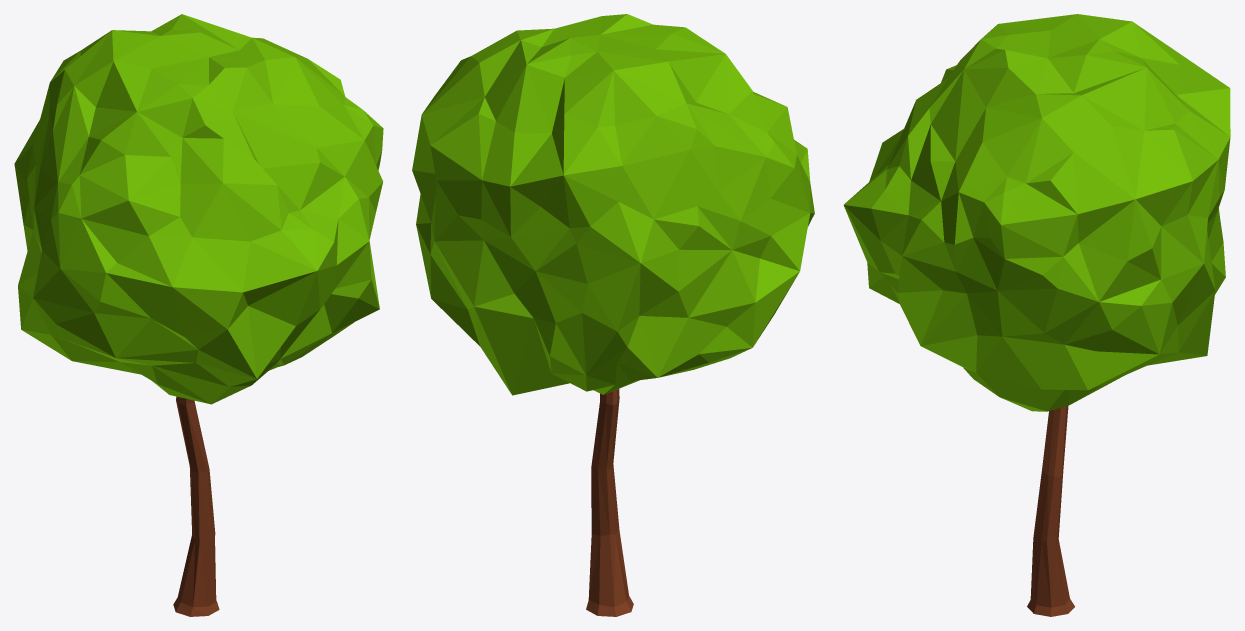
Rendered from Arbol3 .fbx.
The picture shows the model from 3 angles, left to right: view 1: azimuth 30°, elevation 25°; view 2: azimuth 150°, elevation 25°; view 3: azimuth 270°, elevation 25°; orthographic projection. The views are drawn at different scales.
Parts seen in each view (by area): view 1: Arbol 3; view 2: Arbol 3; view 3: Arbol 3.
Boxes of the visible parts, x1,y1,x2,y2 form: Arbol 3: (14, 14, 383, 616); Arbol 3: (412, 14, 814, 616); Arbol 3: (843, 14, 1230, 616).
Bounding box in the file's own units: 304 × 477 × 297.
